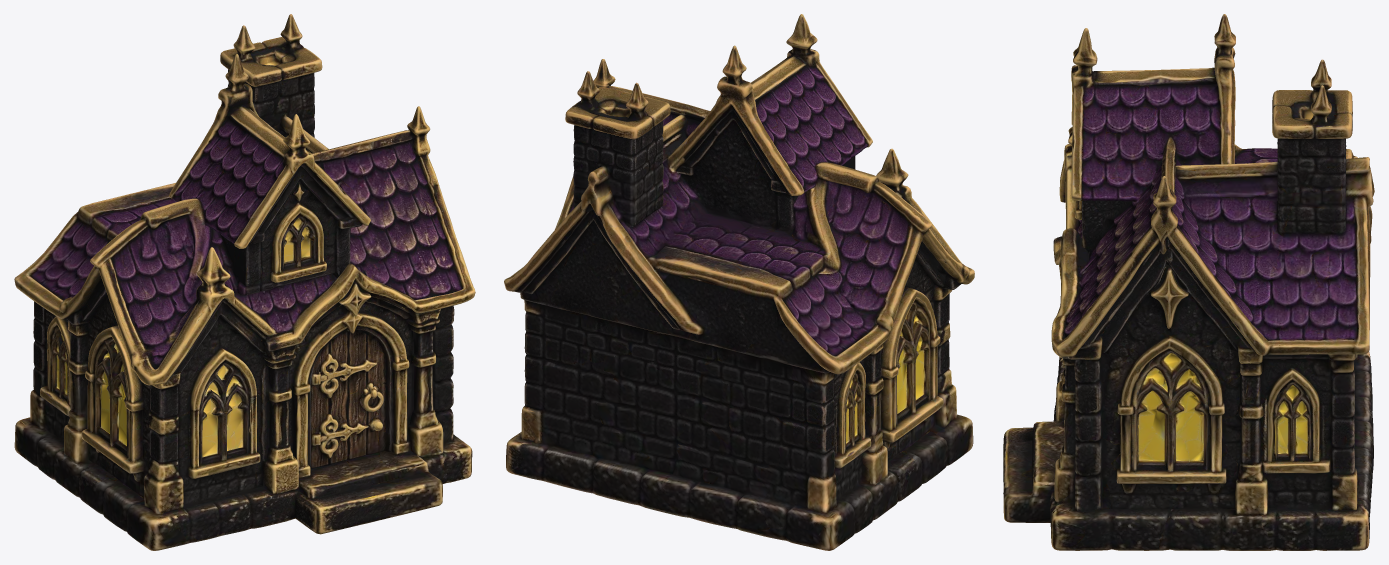
The model's file is house.glb.
3 views of the same model, side by side, from view 1: azimuth 30°, elevation 25°; view 2: azimuth 150°, elevation 25°; view 3: azimuth 270°, elevation 25° (orthographic). The views are drawn at different scales.
Bounding box in the file's own units: 1.62 × 1.9 × 1.41.
Materials: 1 (1 with a texture image).
